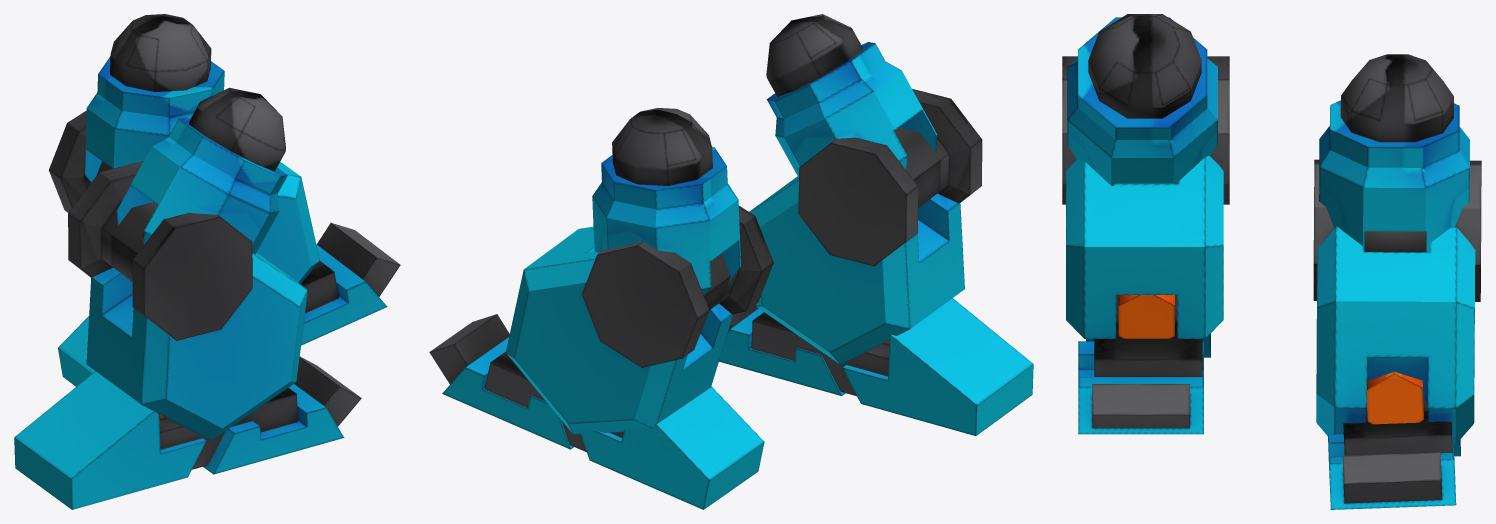
The model's file is Bottom_Idle21.obj.
3 views of the same model, side by side, from view 1: azimuth 30°, elevation 25°; view 2: azimuth 150°, elevation 25°; view 3: azimuth 270°, elevation 25° (orthographic). The views are drawn at different scales.
Parts seen in each view (by area): view 1: Object013, Object014, Object012, Object009, Object011, Object010; view 2: Object013, Object010, Object014, Object011, Object009, Object012; view 3: Object010, Object013, Object009, Object012, Object014, Object011.
Part boxes in pixels (box(x1,y1,x2,y2)): Object013: box(68, 161, 307, 440); Object014: box(14, 356, 361, 509); Object012: box(116, 87, 287, 254); Object009: box(85, 14, 224, 182); Object011: box(58, 223, 400, 386); Object010: box(49, 110, 319, 284); Object013: box(749, 89, 982, 364); Object010: box(506, 205, 773, 434); Object014: box(719, 298, 1033, 435); Object011: box(429, 314, 764, 509); Object009: box(592, 108, 740, 295); Object012: box(766, 14, 937, 177); Object010: box(1313, 159, 1481, 444); Object013: box(1062, 56, 1229, 338); Object009: box(1319, 54, 1469, 252); Object012: box(1067, 14, 1217, 185); Object014: box(1078, 295, 1210, 434); Object011: box(1328, 371, 1460, 509).
Size of the model in its own units: 128 by 105 by 94.65.
